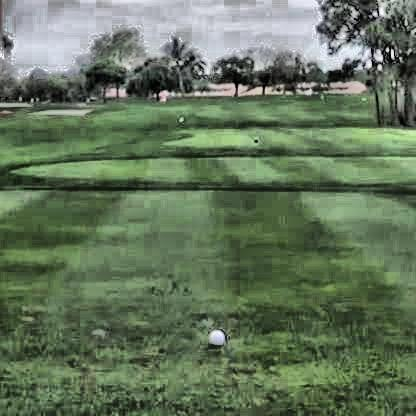golfball: (206, 326, 223, 346)
